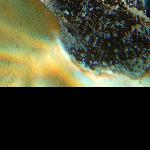dead: (3, 5, 145, 84)
